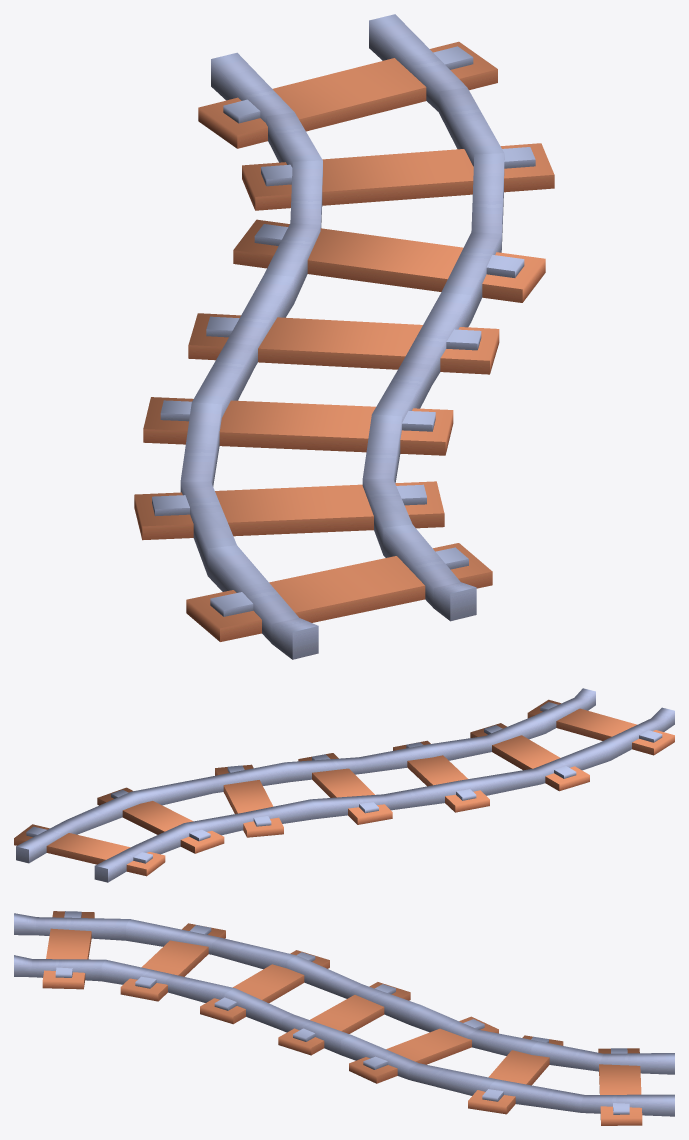
File: kenney-train-railroad-damaged-curve.glb
The picture shows the model from 3 angles, top to bottom: view 1: azimuth 30°, elevation 25°; view 2: azimuth 150°, elevation 25°; view 3: azimuth 270°, elevation 25°; orthographic projection. The views are drawn at different scales.
Parts seen in each view (by area): view 1: railroad-damaged-curve; view 2: railroad-damaged-curve; view 3: railroad-damaged-curve.
Part boxes in pixels (bbox=[...]): railroad-damaged-curve: bbox=[134, 14, 554, 659]; railroad-damaged-curve: bbox=[14, 688, 674, 882]; railroad-damaged-curve: bbox=[14, 911, 674, 1125].
Bounding box in the file's own units: 2.97 × 0.1001 × 4.
1 material, 1 textured.
